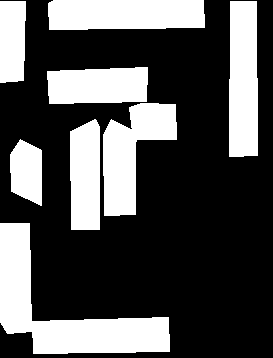parkingspot: (32, 317, 169, 353), (48, 0, 204, 29), (229, 1, 257, 156), (47, 67, 147, 103), (0, 223, 31, 333), (70, 119, 99, 229), (103, 119, 136, 215), (10, 139, 41, 205), (0, 1, 25, 82), (129, 103, 176, 139)
